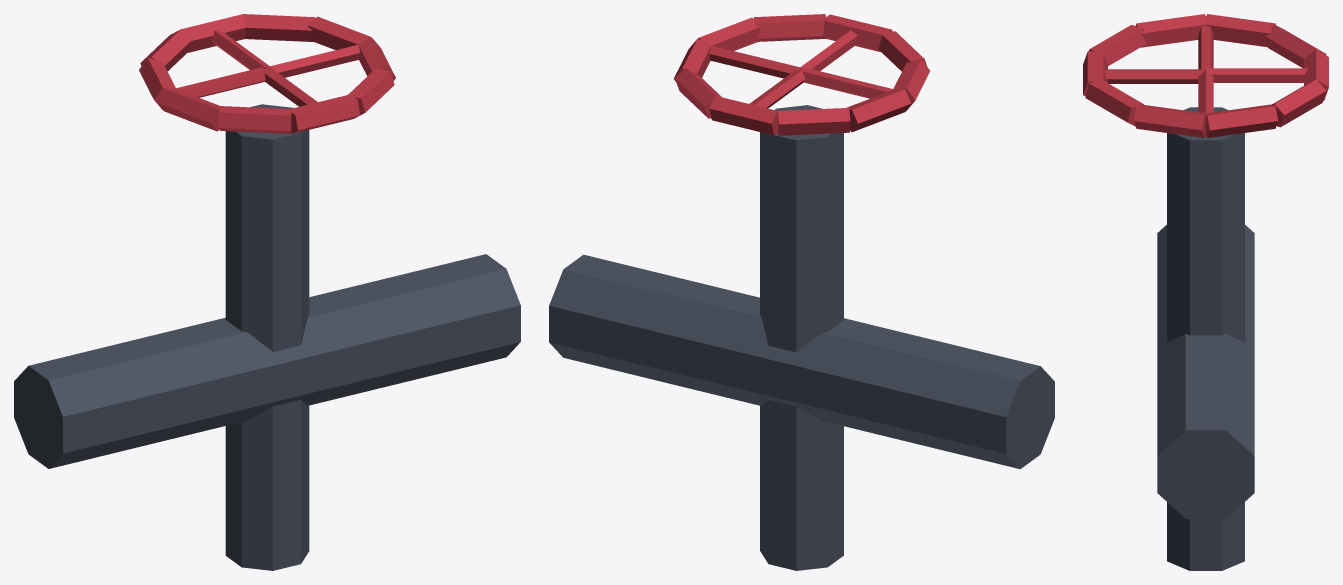
Rendered from valve_wheel.glb.
3 views of the same model, side by side, from view 1: azimuth 30°, elevation 25°; view 2: azimuth 150°, elevation 25°; view 3: azimuth 270°, elevation 25° (orthographic).
Parts seen in each view (by area): view 1: valve_wheel; view 2: valve_wheel; view 3: valve_wheel.
Boxes of the visible parts, x1=… form: valve_wheel: x1=14, y1=14, x2=520, y2=570; valve_wheel: x1=549, y1=14, x2=1054, y2=570; valve_wheel: x1=1083, y1=14, x2=1328, y2=570.
Size of the model in its own units: 1 by 1.02 by 0.466.
